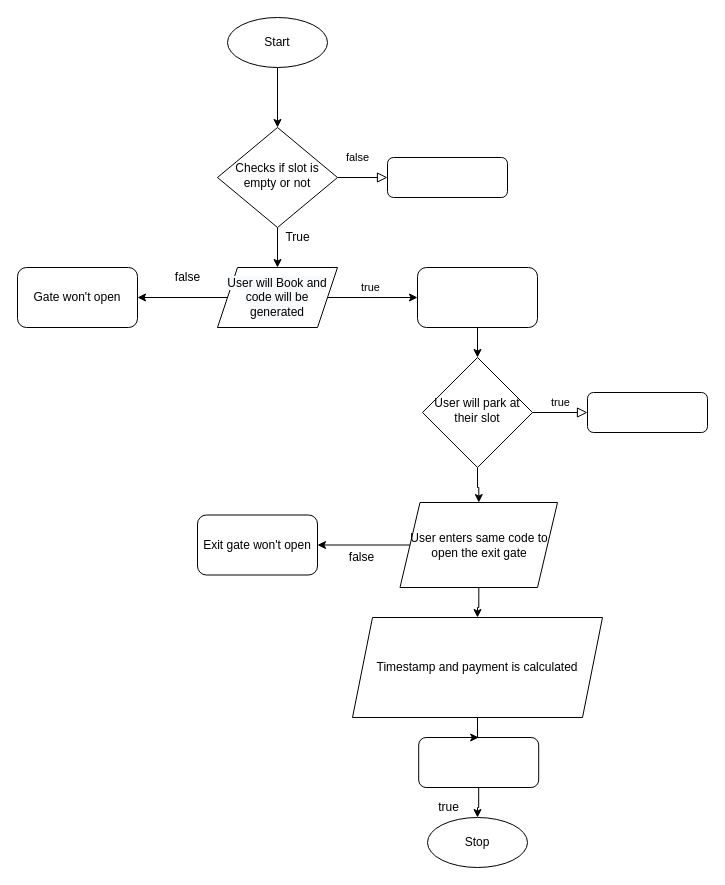
This 725x885 diagram has some shape labels left out. The centre of each missing label's shape, as x and y in pixels:
Booking Timestamp starts: pixel 647 412
Exit gate will open: pixel 478 762
Gate will automatically open: pixel 477 297
Wait for slot to be empty: pixel 447 177
